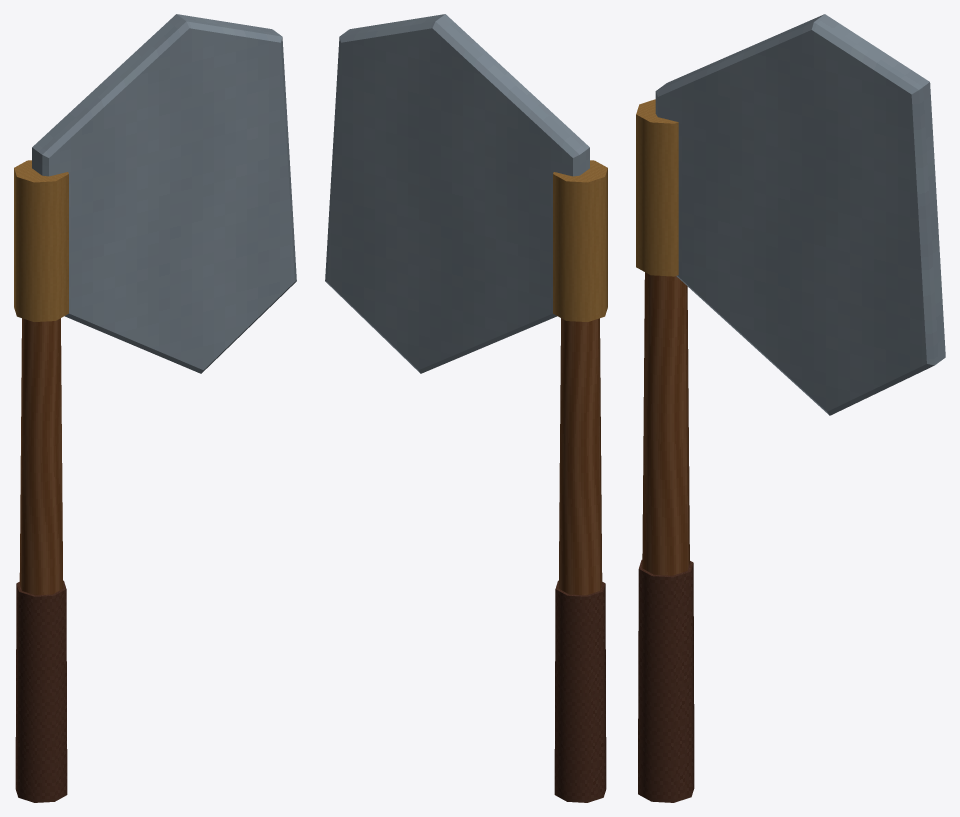
The model's file is war-axe.lod2.glb.
3 renders of one model, left to right at view 1: azimuth 30°, elevation 25°; view 2: azimuth 150°, elevation 25°; view 3: azimuth 330°, elevation 25°, orthographic. The views are drawn at different scales.
Visible parts, largest first — view 1: steel.3, wood.0, leather.1, brass.2; view 2: steel.3, wood.0, leather.1, brass.2; view 3: steel.3, wood.0, leather.1, brass.2.
Boxes of the visible parts, bbox=[...] form: steel.3: bbox=[32, 14, 296, 373]; wood.0: bbox=[19, 318, 63, 595]; leather.1: bbox=[15, 580, 67, 802]; brass.2: bbox=[14, 160, 68, 321]; steel.3: bbox=[325, 14, 589, 373]; wood.0: bbox=[558, 318, 602, 595]; leather.1: bbox=[554, 580, 606, 802]; brass.2: bbox=[553, 160, 607, 321]; steel.3: bbox=[655, 14, 945, 415]; wood.0: bbox=[642, 272, 689, 575]; leather.1: bbox=[638, 560, 694, 802]; brass.2: bbox=[636, 99, 678, 276].
Bounding box in the file's own units: 0.3915 × 1.01 × 0.07.
Materials: 4 (4 with a texture image).
